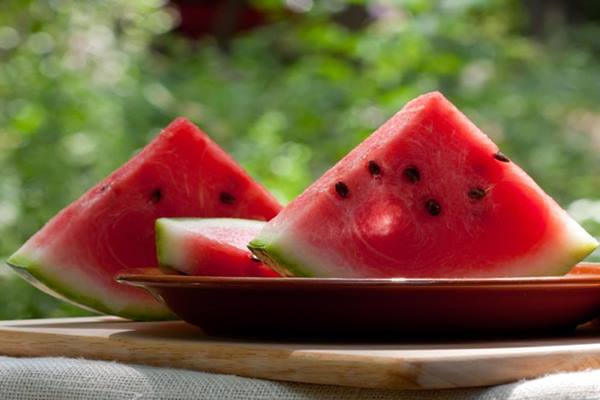Semangka: (292, 67, 587, 362), (28, 76, 268, 316)
